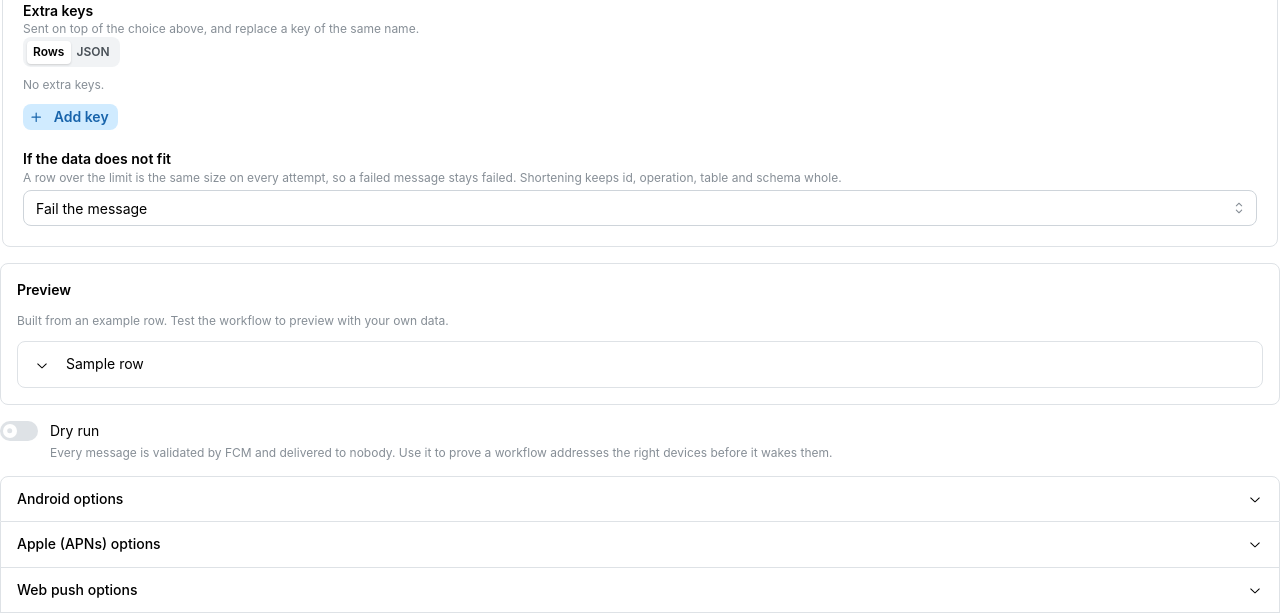
Test: the fcm form shows what is needed first › keeps the per-platform options folded away until they are asked for
This screenshot has width=1280, height=613.
(page scrolled)
Expected: the field labelled "notification channel" is not shown
Click the button "Android options". click: coordinates (70, 499)
box: [1,477,1279,521]
(page scrolled)
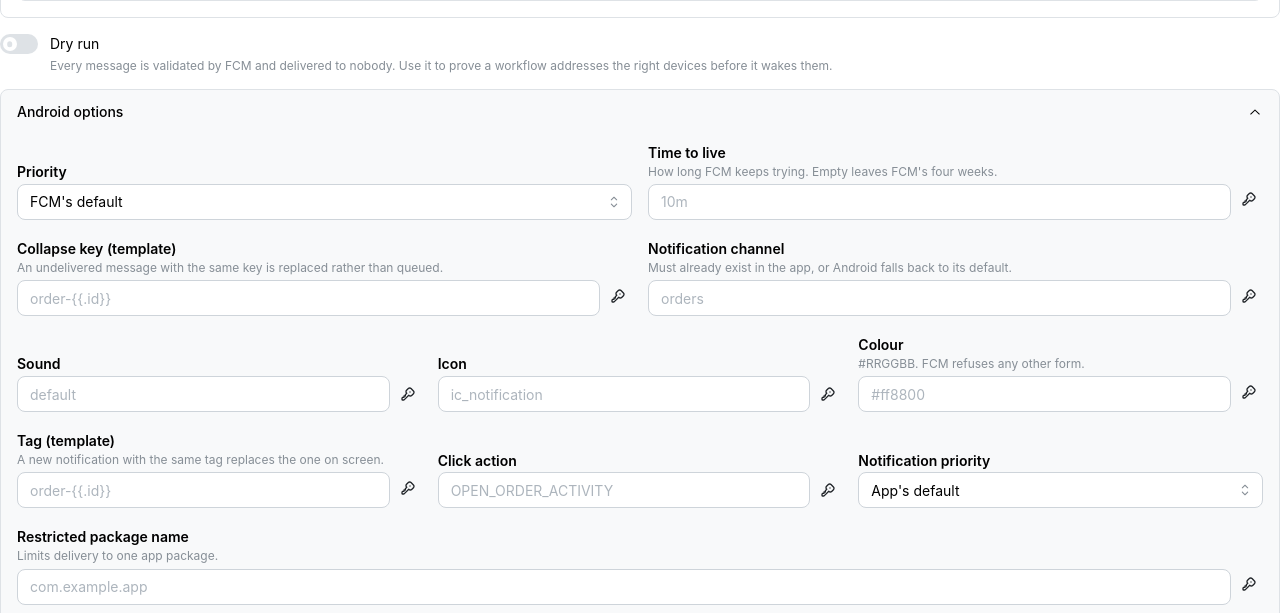
Now the field labelled "Notification channel" is shown, box [648,280,1231,316]
